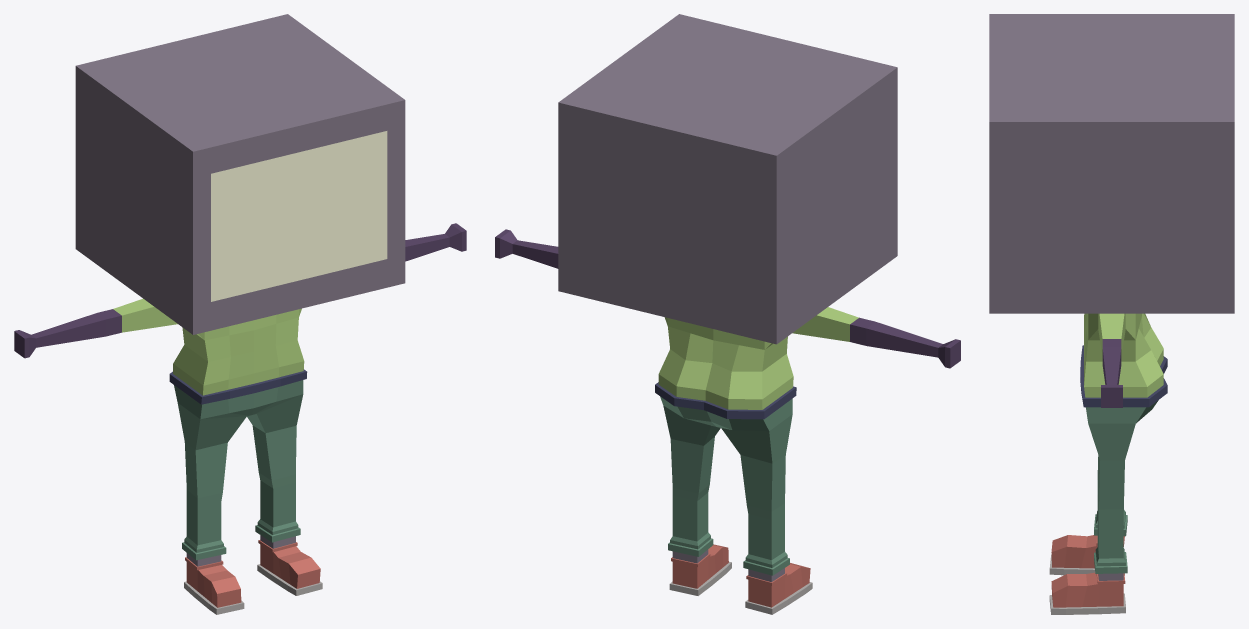
File: Cube_Person_Thing.glb
3 views of the same model, side by side, from view 1: azimuth 30°, elevation 25°; view 2: azimuth 150°, elevation 25°; view 3: azimuth 270°, elevation 25° (orthographic). The views are drawn at different scales.
Visible parts, largest first — view 1: HEAD, LEG, TORSO, ARM, SHOES; view 2: HEAD, LEG, TORSO, ARM, SHOES; view 3: HEAD, LEG, TORSO, SHOES, ARM.
Boxes of the visible parts, x1=… form: HEAD: x1=75, y1=14, x2=405, y2=334; LEG: x1=174, y1=380, x2=303, y2=566; TORSO: x1=169, y1=308, x2=307, y2=404; ARM: x1=14, y1=223, x2=466, y2=358; SHOES: x1=184, y1=540, x2=322, y2=614; HEAD: x1=558, y1=14, x2=897, y2=344; LEG: x1=660, y1=396, x2=792, y2=581; TORSO: x1=655, y1=317, x2=796, y2=419; ARM: x1=495, y1=229, x2=960, y2=368; SHOES: x1=669, y1=544, x2=812, y2=614; HEAD: x1=989, y1=14, x2=1234, y2=313; LEG: x1=1085, y1=400, x2=1158, y2=580; TORSO: x1=1080, y1=313, x2=1167, y2=407; SHOES: x1=1049, y1=535, x2=1125, y2=614; ARM: x1=1098, y1=313, x2=1125, y2=407.
Size of the model in its own units: 1.84 by 1.98 by 0.8469.
Materials: 1 (1 with a texture image).
